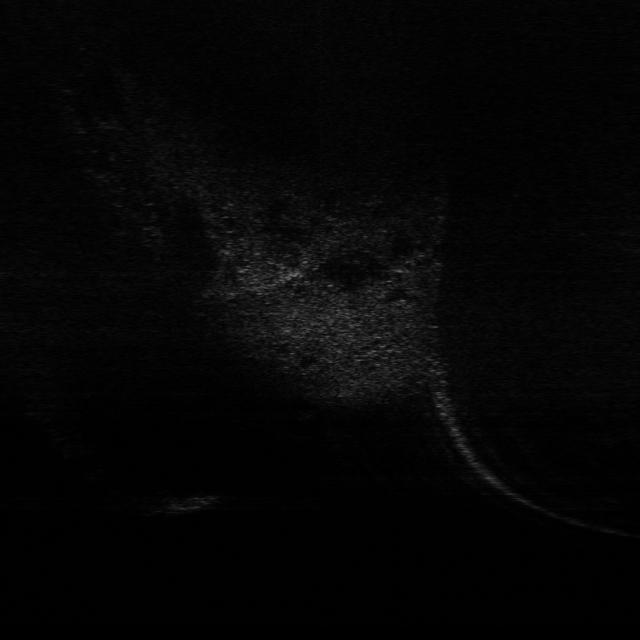cube: (147, 488, 223, 516)
